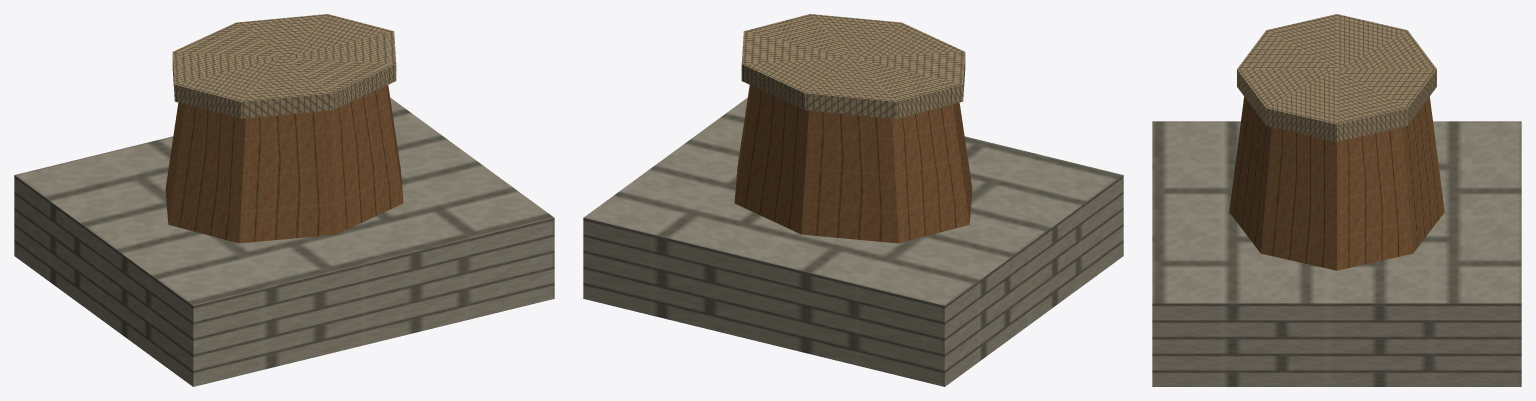
File: military-DRUM-1-lod0.glb
3 views of the same model, side by side, from view 1: azimuth 30°, elevation 25°; view 2: azimuth 150°, elevation 25°; view 3: azimuth 270°, elevation 25° (orthographic). The views are drawn at different scales.
Size of the model in its own units: 0.56 by 0.325 by 0.48.
Materials: 1 (1 with a texture image).
